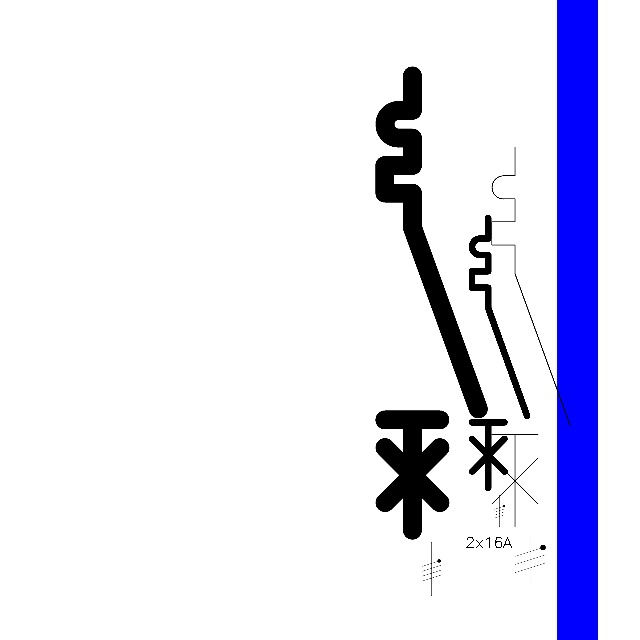interruptor_termomagnetico: (373, 64, 490, 542), (482, 137, 580, 537), (465, 211, 534, 495)
